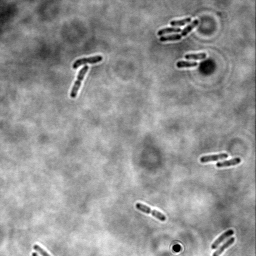Dividing: (69, 65, 90, 99), (134, 201, 167, 222), (71, 54, 104, 70), (212, 236, 236, 255)
Microcolony: (156, 16, 200, 44)
Rod: (211, 229, 235, 250), (198, 151, 231, 164), (216, 157, 243, 170), (175, 59, 199, 70), (183, 51, 208, 61)
